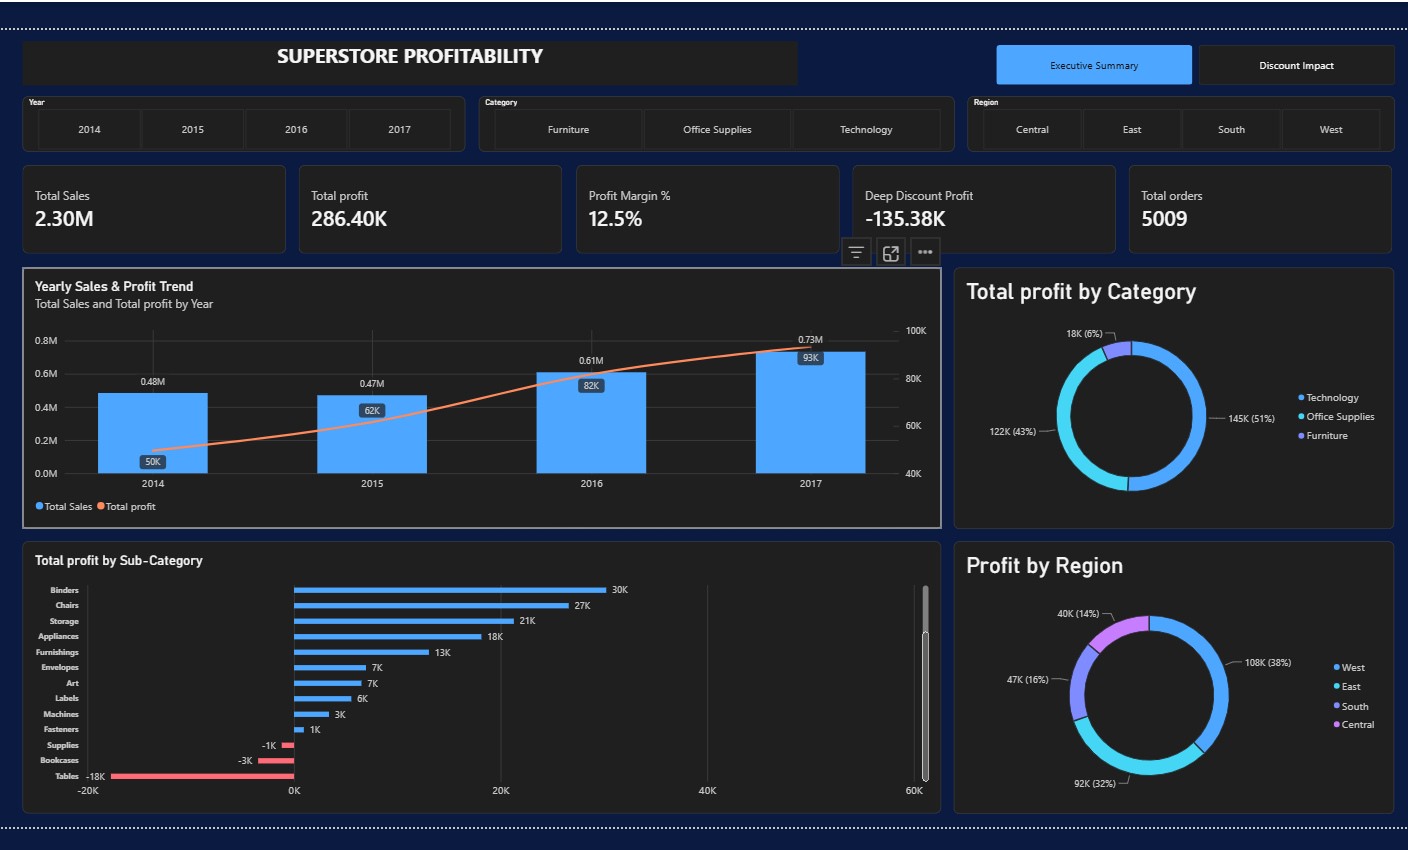

The page's visual inventory and layout, read from the dashboard file:
{"tool":"powerbi","page":{"name":"Executive Summary","canvas":[1920,1080],"ordinal":0},"visuals":[{"type":"cardVisual","fields":{"Data":["Cleaned_data.Total Sales"]},"box":[30,183,357,120],"z":0},{"type":"cardVisual","fields":{"Data":["Cleaned_data.Total profit"]},"box":[405,183,357,120],"z":1000},{"type":"cardVisual","fields":{"Data":["Cleaned_data.Profit Margin %"]},"box":[780,183,357,120],"z":2000},{"type":"cardVisual","fields":{"Data":["Cleaned_data.Total orders"]},"box":[1530,183,357,120],"z":3000},{"type":"cardVisual","fields":{"Data":["Cleaned_data.Deep Discount Profit"]},"box":[1155,183,357,120],"z":4000},{"type":"lineClusteredColumnComboChart","title":"Yearly Sales & Profit Trend","fields":{"Category":["Cleaned_data.Order Date.Variation.Date Hierarchy.Year"],"Y":["Cleaned_data.Total Sales"],"Y2":["Cleaned_data.Total profit"]},"box":[30,321,1245,354],"z":5000},{"type":"donutChart","title":"Profit by Region","fields":{"Category":["Cleaned_data.Region"],"Y":["Cleaned_data.Total profit"]},"box":[1293,693,597,369.2],"z":6000},{"type":"donutChart","fields":{"Category":["Cleaned_data.Category"],"Y":["Cleaned_data.Total profit"]},"box":[1293,321,597,354],"z":7000},{"type":"slicer","fields":{"Values":["Cleaned_data.Year"]},"box":[30,90,600,75],"z":8000},{"type":"slicer","fields":{"Values":["Cleaned_data.Category"]},"box":[648,90,645,75],"z":9000},{"type":"slicer","fields":{"Values":["Cleaned_data.Region"]},"box":[1311,90,579,75],"z":10000},{"type":"clusteredBarChart","fields":{"Category":["Cleaned_data.Sub-Category"],"Y":["Cleaned_data.Total profit"]},"box":[30,693,1245,369],"z":11000},{"type":"textbox","box":[30,15,1050,60],"z":12000},{"type":"pageNavigator","box":[1350,21,540,54],"z":13000}]}

Visuals, with their boxes on the page's 1920x1080 design canvas (x1, y1, x2, y2). These are canvas units, not pixel positions in the 1408x850 screenshot, which may show the page scaled, cropped or inside an application window:
cardVisual - Cleaned_data.Total Sales: (left=30, top=183, right=387, bottom=303)
cardVisual - Cleaned_data.Total profit: (left=405, top=183, right=762, bottom=303)
cardVisual - Cleaned_data.Profit Margin %: (left=780, top=183, right=1137, bottom=303)
cardVisual - Cleaned_data.Total orders: (left=1530, top=183, right=1887, bottom=303)
cardVisual - Cleaned_data.Deep Discount Profit: (left=1155, top=183, right=1512, bottom=303)
"Yearly Sales & Profit Trend" lineClusteredColumnComboChart: (left=30, top=321, right=1275, bottom=675)
"Profit by Region" donutChart: (left=1293, top=693, right=1890, bottom=1062)
donutChart - Cleaned_data.Category x Cleaned_data.Total profit: (left=1293, top=321, right=1890, bottom=675)
slicer - Cleaned_data.Year: (left=30, top=90, right=630, bottom=165)
slicer - Cleaned_data.Category: (left=648, top=90, right=1293, bottom=165)
slicer - Cleaned_data.Region: (left=1311, top=90, right=1890, bottom=165)
clusteredBarChart - Cleaned_data.Sub-Category x Cleaned_data.Total profit: (left=30, top=693, right=1275, bottom=1062)
textbox: (left=30, top=15, right=1080, bottom=75)
pageNavigator: (left=1350, top=21, right=1890, bottom=75)
